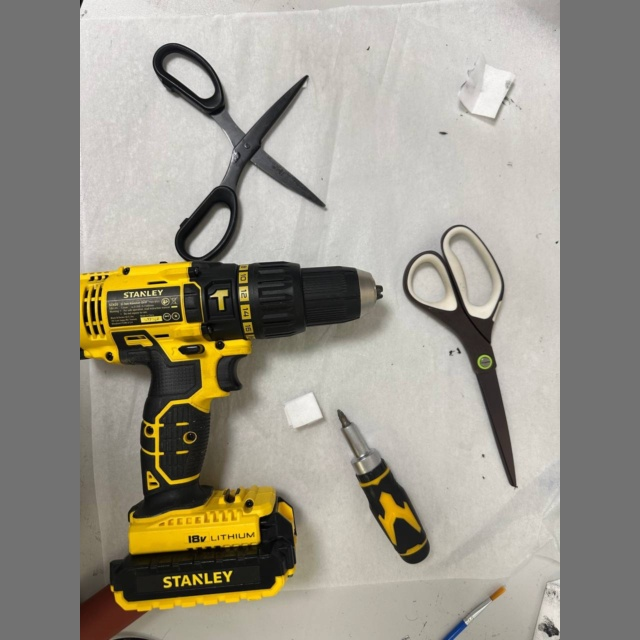drill: (80, 256, 382, 614)
scissor: (153, 44, 324, 260), (403, 225, 517, 486)
screwdriver: (337, 409, 429, 563)
